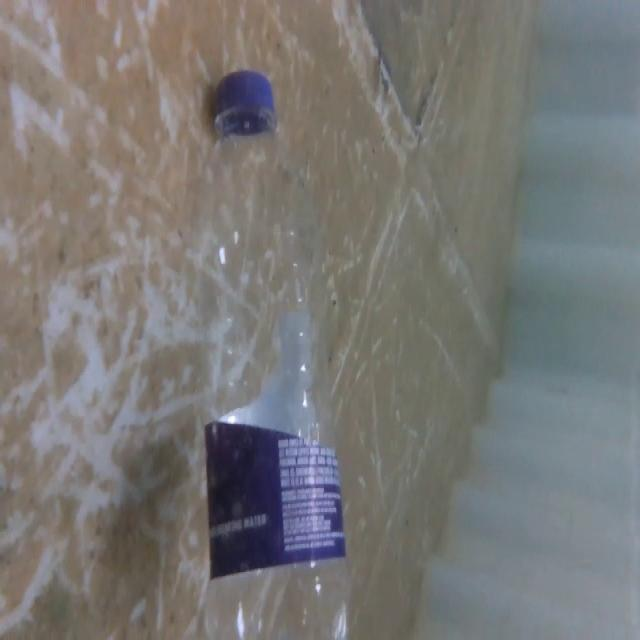plastic bottle: (195, 68, 370, 640)
